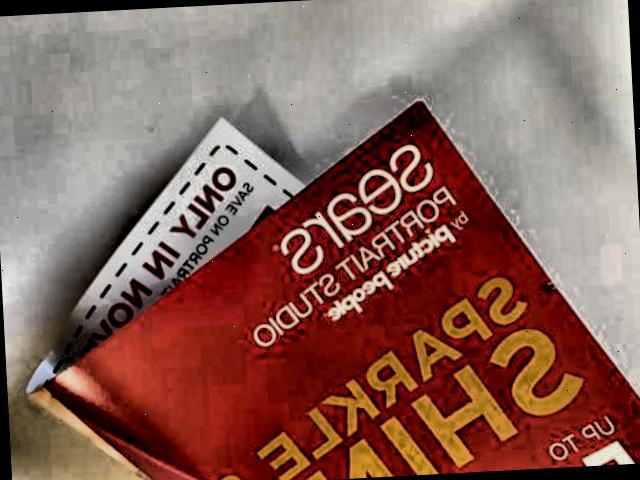Paper: (0, 63, 640, 480)
